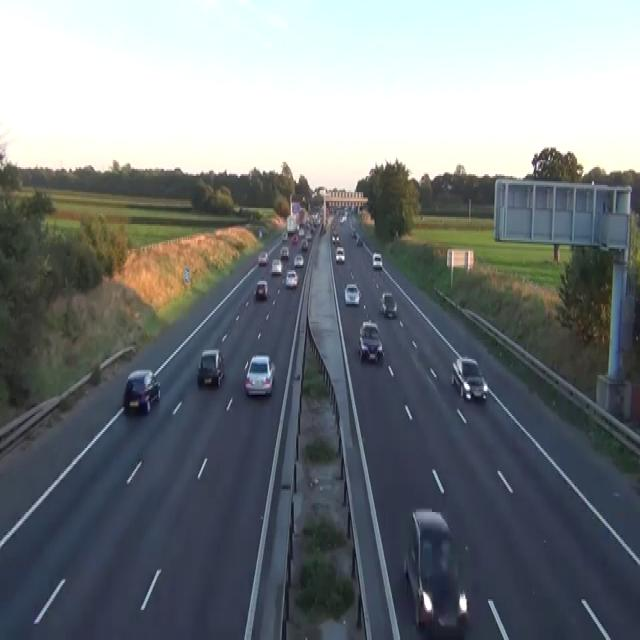Car: (403, 506, 469, 634), (123, 368, 160, 414), (451, 356, 488, 402), (244, 354, 275, 396), (196, 348, 224, 388), (358, 320, 383, 361), (379, 292, 397, 316), (344, 282, 360, 306), (255, 279, 268, 299), (285, 268, 297, 288), (372, 250, 382, 268), (335, 245, 345, 263), (271, 258, 282, 274), (257, 251, 268, 265), (293, 252, 303, 266), (279, 246, 289, 260), (331, 231, 339, 244), (301, 238, 308, 251), (319, 222, 326, 235), (313, 213, 320, 226), (350, 222, 356, 236), (281, 231, 288, 242), (355, 235, 362, 245), (291, 234, 298, 243), (351, 228, 357, 238), (339, 214, 346, 222), (305, 231, 311, 240), (298, 228, 304, 236), (331, 233, 336, 242), (258, 228, 262, 236)
